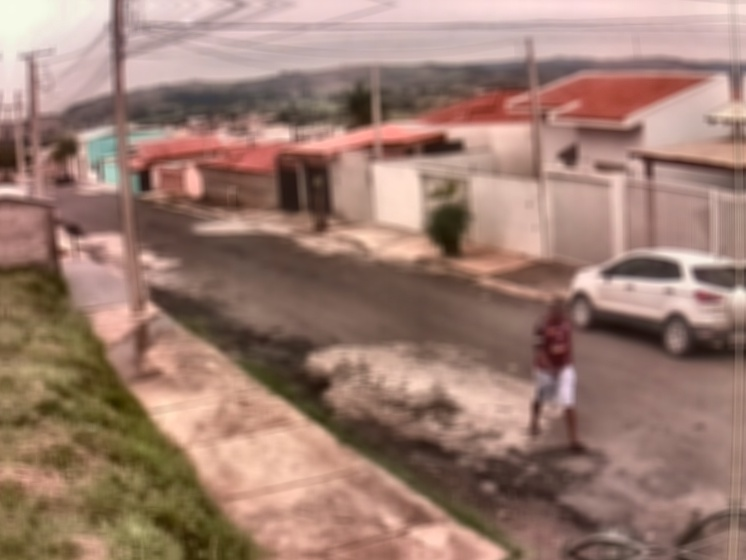person: (527, 296, 587, 447)
